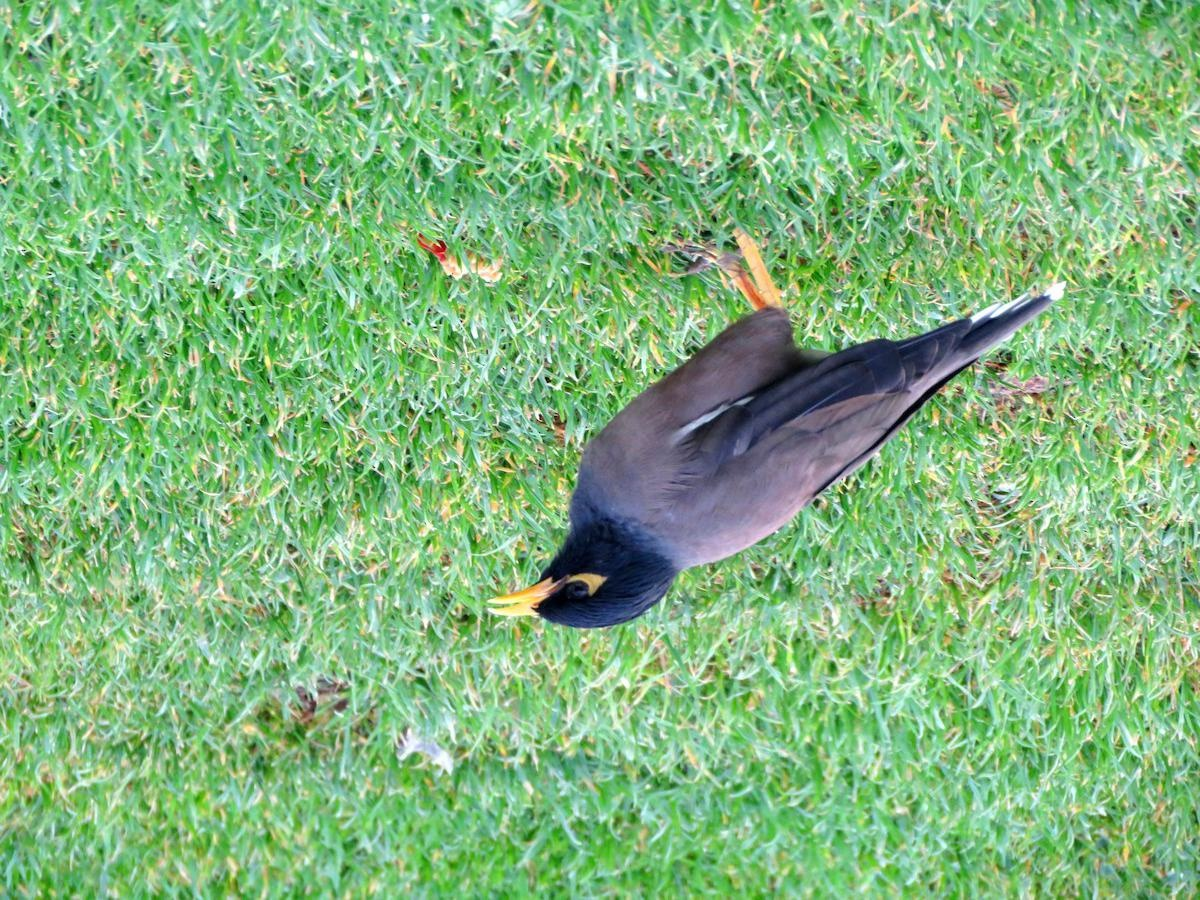myna: (498, 171, 1100, 655)
